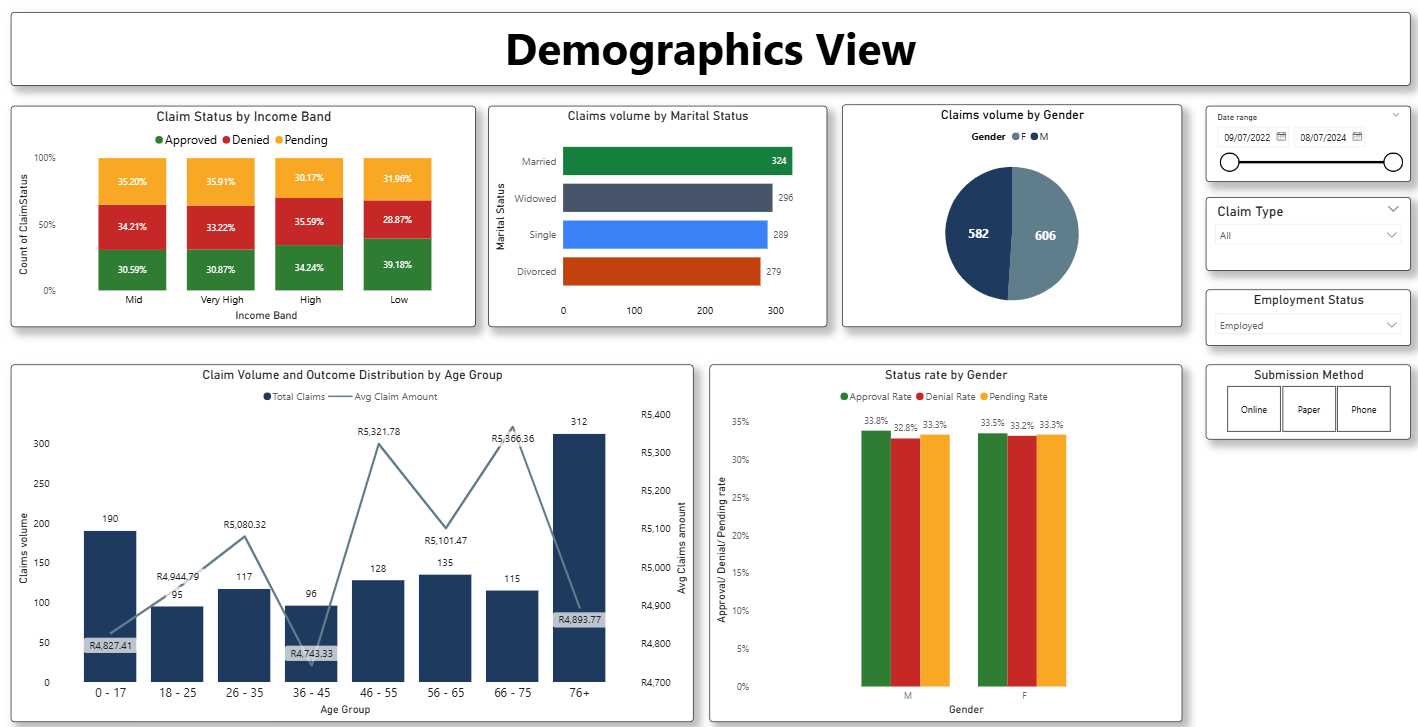

What the dashboard file says about the page in this screenshot:
{"tool":"powerbi","page":{"name":"Demographics view","canvas":[1900,980],"ordinal":1},"visuals":[{"type":"lineStackedColumnComboChart","title":"Claim Volume and Outcome Distribution by Age Group","fields":{"Category":["health_insurance_claims.Age Group"],"Y":["health_insurance_claims.Total Claims"],"Y2":["health_insurance_claims.Avg Claim Amount"]},"box":[18.3,490,910,476.7],"z":0},{"type":"clusteredColumnChart","title":"Status rate by Gender","fields":{"Category":["health_insurance_claims.PatientGender"],"Y":["health_insurance_claims.Approval Rate","health_insurance_claims.Denial Rate","health_insurance_claims.Pending Rate"]},"box":[950,490,630,476.7],"z":1000},{"type":"pieChart","title":"Claims volume by Gender","fields":{"Category":["health_insurance_claims.PatientGender"],"Y":["health_insurance_claims.Total Claims"]},"box":[1126.7,143.3,453.3,296.7],"z":2000},{"type":"hundredPercentStackedColumnChart","title":"Claim Status by Income Band","fields":{"Category":["health_insurance_claims.Income Band"],"Y":["CountNonNull(health_insurance_claims.ClaimStatus)"],"Series":["health_insurance_claims.ClaimStatus"]},"box":[18.3,145,620,295],"z":3000},{"type":"slicer","fields":{"Values":["Date.Date"]},"box":[1611.7,145,273.3,101.7],"z":4000},{"type":"slicer","fields":{"Values":["health_insurance_claims.ClaimType"]},"box":[1611.7,266.7,273.3,98.3],"z":5000},{"type":"clusteredBarChart","title":"Claims volume by Marital Status","fields":{"Category":["health_insurance_claims.PatientMaritalStatus"],"Y":["health_insurance_claims.Total Claims"]},"box":[655,145,451.7,295],"z":6000},{"type":"slicer","title":"Submission Method","fields":{"Values":["health_insurance_claims.ClaimSubmissionMethod"]},"box":[1611.7,490,273.3,100],"z":7000},{"type":"textbox","box":[18.3,20,1866.7,98.3],"z":8000},{"type":"slicer","title":"Employment Status","fields":{"Values":["health_insurance_claims.PatientEmploymentStatus"]},"box":[1611.7,390,273.3,75],"z":9000}]}

Visuals, with their boxes in screenshot pixels (x1, y1, x2, y2), scaled from the page's 1900x980 canvas onto the 1418x727 screenshot:
"Claim Volume and Outcome Distribution by Age Group" lineStackedColumnComboChart: 14:364:693:717
"Status rate by Gender" clusteredColumnChart: 709:364:1179:717
"Claims volume by Gender" pieChart: 841:106:1179:326
"Claim Status by Income Band" hundredPercentStackedColumnChart: 14:108:476:326
slicer - Date.Date: 1203:108:1407:183
slicer - health_insurance_claims.ClaimType: 1203:198:1407:271
"Claims volume by Marital Status" clusteredBarChart: 489:108:826:326
"Submission Method" slicer: 1203:364:1407:438
textbox: 14:15:1407:88
"Employment Status" slicer: 1203:289:1407:345
